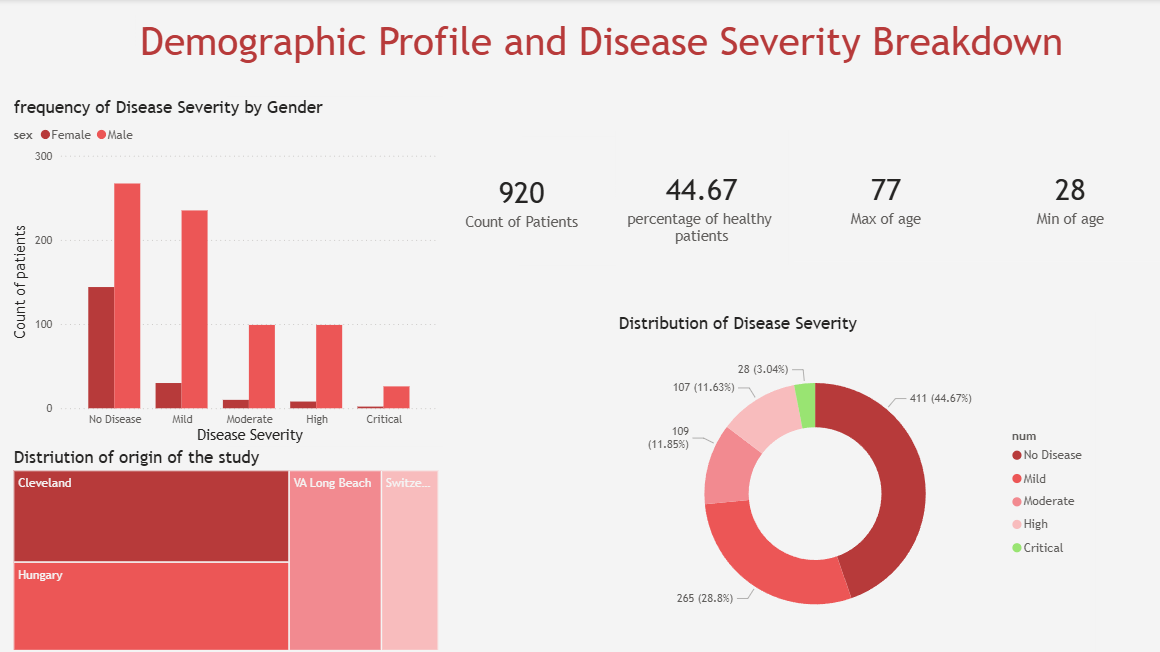

This screenshot's page, from the dashboard's own definition file:
{"tool":"powerbi","page":{"name":"Demographic Profile and Disease Severity Breakdown","canvas":[1280,720],"ordinal":0},"visuals":[{"type":"card","fields":{"Values":["CountNonNull(Sheet1.id)"]},"box":[471.8,150.4,205.8,141.3],"z":0},{"type":"clusteredColumnChart","title":"frequency of Disease Severity by Gender","fields":{"Category":["Sheet1.num"],"Y":["CountNonNull(Sheet1.num)"],"Series":["Sheet1.sex"]},"box":[12.3,107,476.2,385.6],"z":1000},{"type":"treemap","title":"Distriution of origin of the study","fields":{"Group":["Sheet1.origin"],"Values":["CountNonNull(Sheet1.origin)"]},"box":[12.3,491.3,476.2,229.2],"z":2000},{"type":"card","fields":{"Values":["Min(Sheet1.age)"]},"box":[1074.2,147.7,205.8,140],"z":3000},{"type":"card","fields":{"Values":["Max(Sheet1.age)"]},"box":[873.8,147.7,201.7,140],"z":4000},{"type":"card","fields":{"Values":["Sheet1.percentage of no disease category"]},"box":[677.6,143.5,189.4,148.2],"z":5000},{"type":"donutChart","title":"Distribution of Disease Severity","fields":{"Category":["Sheet1.num"],"Y":["CountNonNull(Sheet1.num)"]},"box":[676.5,344.4,528.3,376],"z":6000},{"type":"textbox","box":[150.9,16.5,1025,71.4],"z":7000}]}

Visuals, with their boxes in screenshot pixels (x1, y1, x2, y2), scaled from the page's 1280x720 canvas onto the 1160x652 screenshot:
card - CountNonNull(Sheet1.id): 428:136:614:264
"frequency of Disease Severity by Gender" clusteredColumnChart: 11:97:443:446
"Distriution of origin of the study" treemap: 11:445:443:651
card - Min(Sheet1.age): 973:134:1159:261
card - Max(Sheet1.age): 792:134:975:261
card - Sheet1.percentage of no disease category: 614:130:786:264
"Distribution of Disease Severity" donutChart: 613:312:1092:651
textbox: 137:15:1066:80
